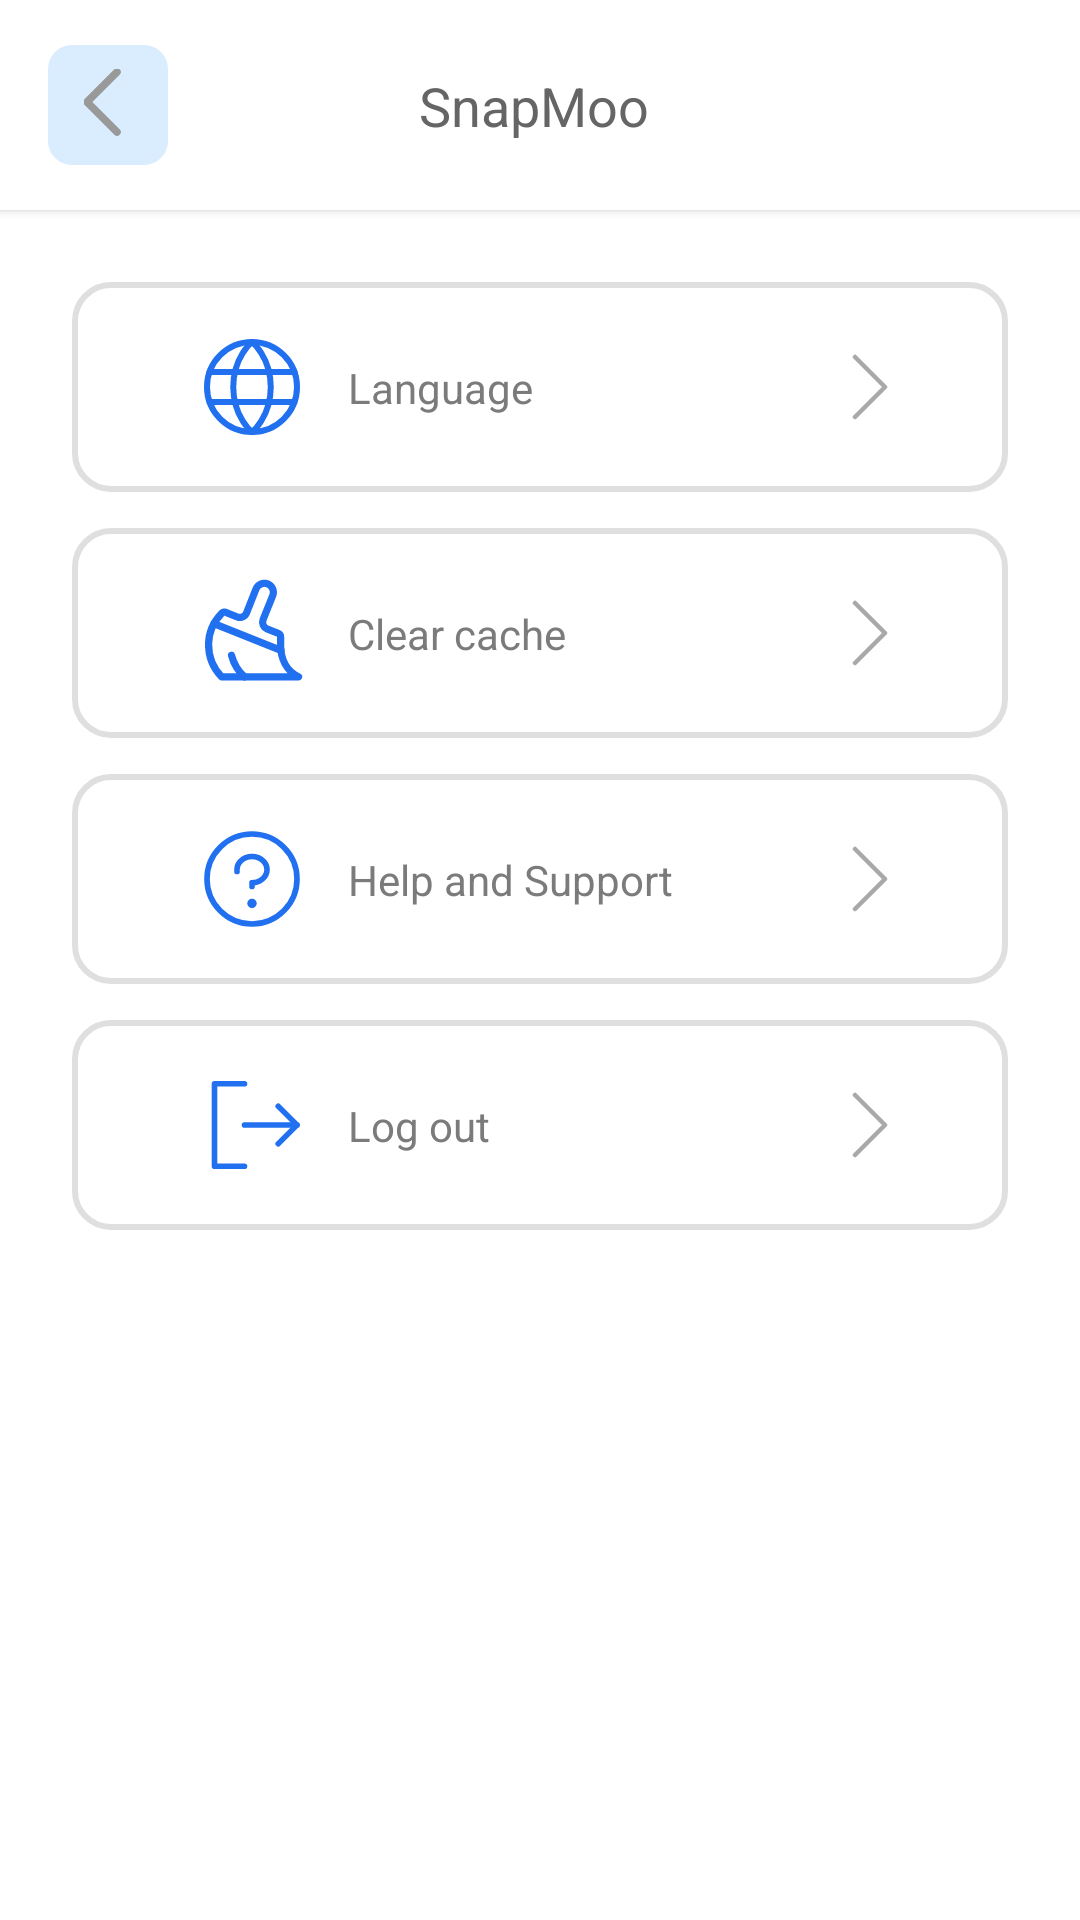

Where icons sit on this 1080px x 1920px app screen, as Rect(x1, y1, x2, y2):
arrow left: Rect(84, 69, 121, 136)
arrow right: Rect(853, 354, 887, 419), Rect(853, 600, 887, 665), Rect(853, 846, 887, 911), Rect(853, 1092, 887, 1157)
Help and Suport: Rect(204, 831, 300, 927)
setting clear: Rect(205, 579, 303, 681)
